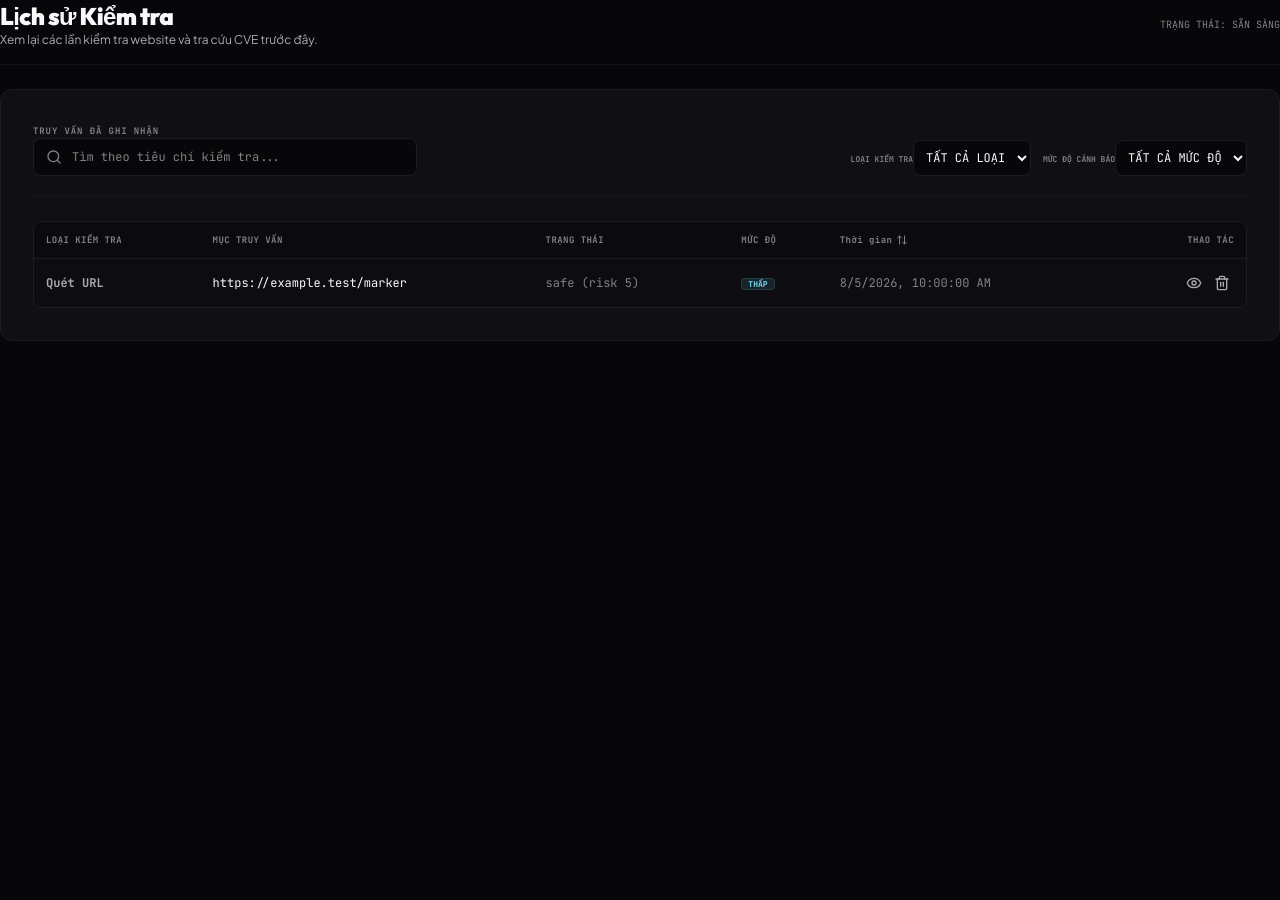
Test: Scan History detail view › fetches and renders the real detail endpoint when "View" is clicked
The width and height of the screenshot is (1280, 900).
expect the text "https://example.test/marker" is shown: met, box [201,258,534,307]
Click the button titled "Xem chi tiết".
click(1194, 283)  # box [1182,271,1206,295]
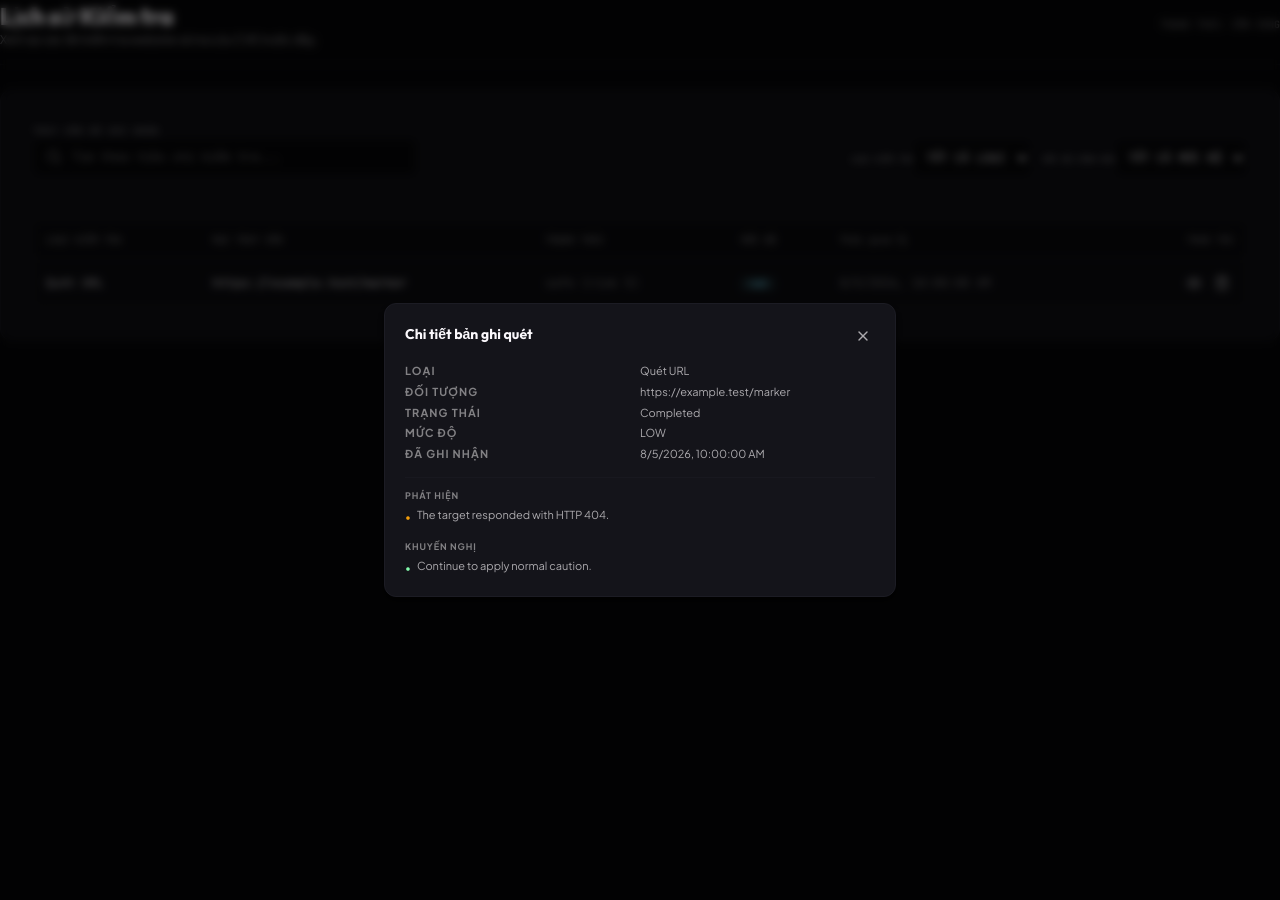
expect the text "The target responded with HTTP 404." is shown: met, box [417,508,609,523]
expect the text "Continue to apply normal caution." is shown: met, box [417,559,592,574]
